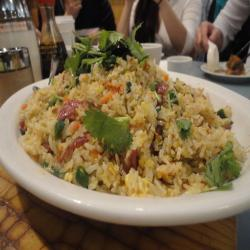rice: (34, 54, 240, 195)
salad: (58, 28, 160, 84)
